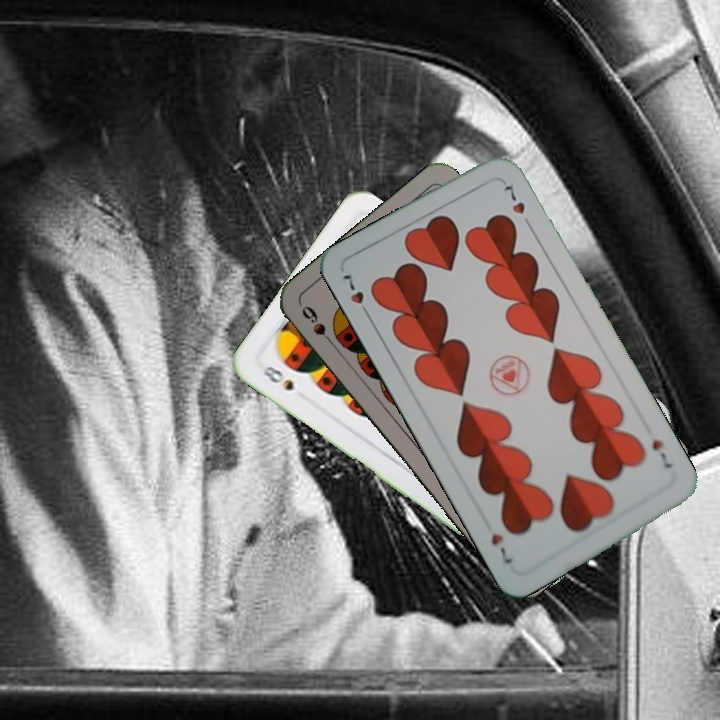H7: (338, 270, 374, 322), (648, 434, 675, 472)
S8: (258, 362, 297, 394)
S9: (297, 301, 340, 352)
